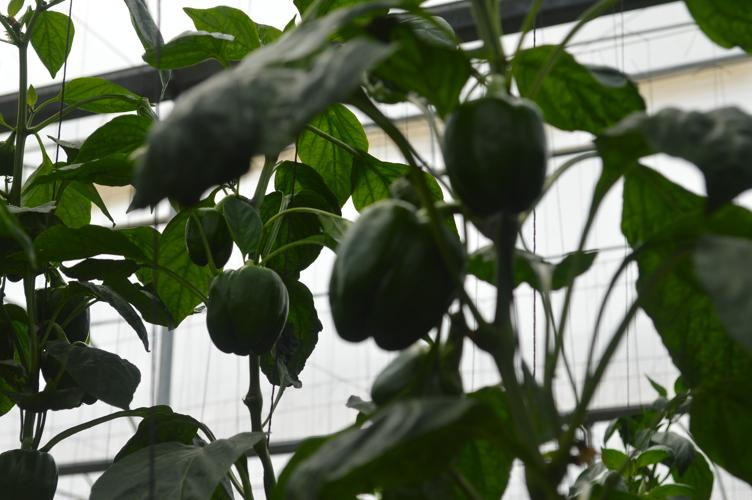BellPepper: (330, 199, 466, 347), (437, 100, 552, 212), (198, 264, 288, 360), (33, 286, 90, 342), (182, 209, 230, 267), (1, 453, 60, 499)
